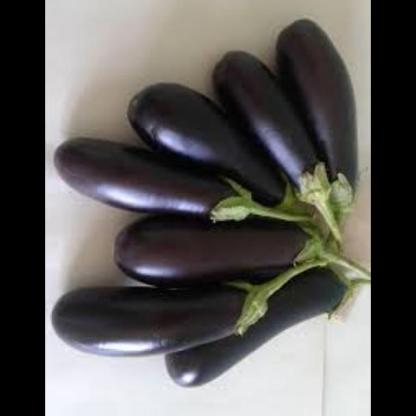eggplant: (45, 258, 370, 360), (111, 78, 308, 218), (45, 134, 292, 230), (223, 16, 327, 241), (306, 0, 370, 226), (90, 225, 344, 280)
